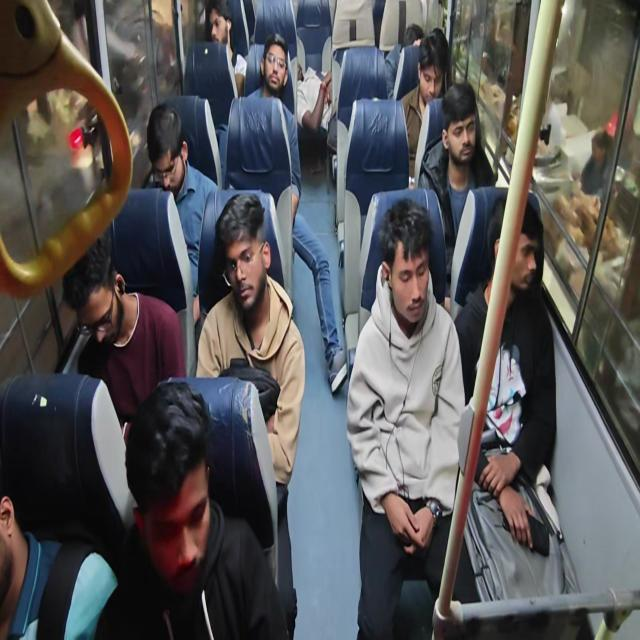person: (116, 367, 218, 584), (218, 195, 288, 323), (58, 238, 124, 358), (379, 206, 439, 322), (0, 448, 31, 606), (148, 100, 192, 198), (492, 211, 542, 295), (443, 87, 483, 174), (414, 36, 447, 115), (262, 33, 292, 97), (205, 0, 234, 53), (399, 16, 425, 52)
